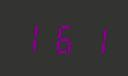one: (18, 17, 47, 55), (79, 20, 108, 58)
six: (49, 19, 78, 56)
